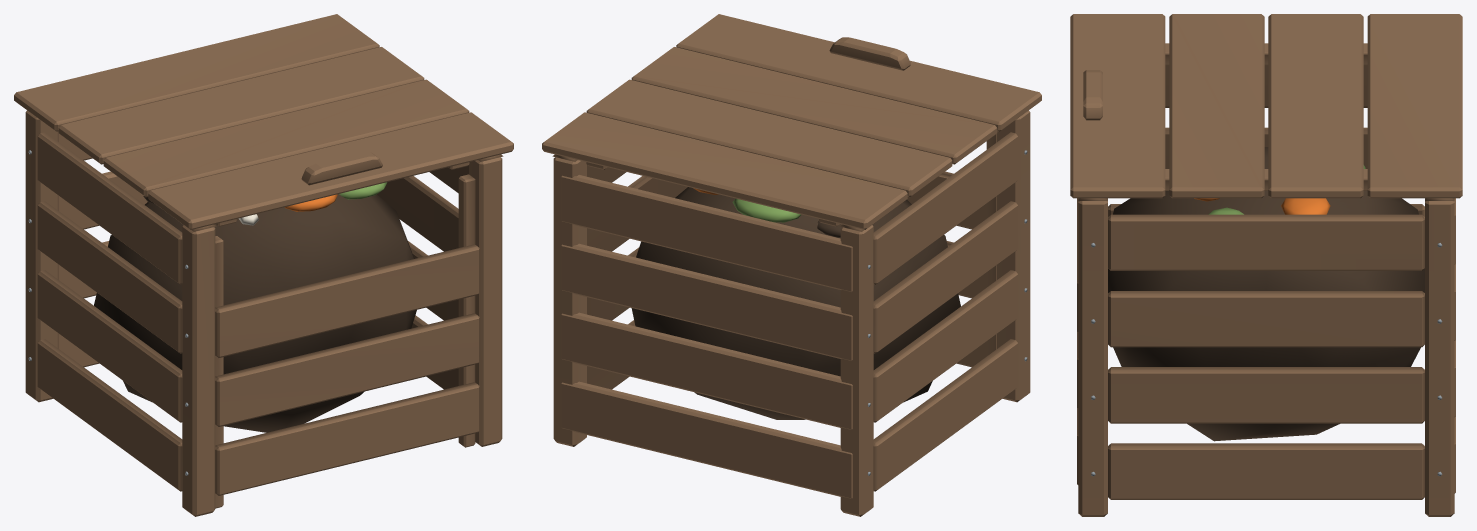
Rendered from compostBin.glb.
3 renders of one model, left to right at view 1: azimuth 30°, elevation 25°; view 2: azimuth 150°, elevation 25°; view 3: azimuth 270°, elevation 25°, orthographic. The views are drawn at different scales.
Parts seen in each view (by area): view 1: bin, lid; view 2: bin, lid; view 3: bin, lid.
Part boxes in pixels (x1,y1,x2,y2): bin: (25,110,503,516); lid: (14,14,513,229); bin: (552,110,1030,516); lid: (542,14,1041,229); bin: (1077,65,1455,516); lid: (1070,14,1462,198).
Size of the model in its own units: 0.84 by 0.78 by 0.792.
